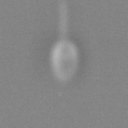normal: (52, 1, 69, 39)
